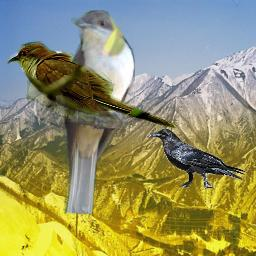Crow: (148, 128, 251, 191)
Cuckoo: (60, 10, 135, 214), (7, 41, 178, 130)
